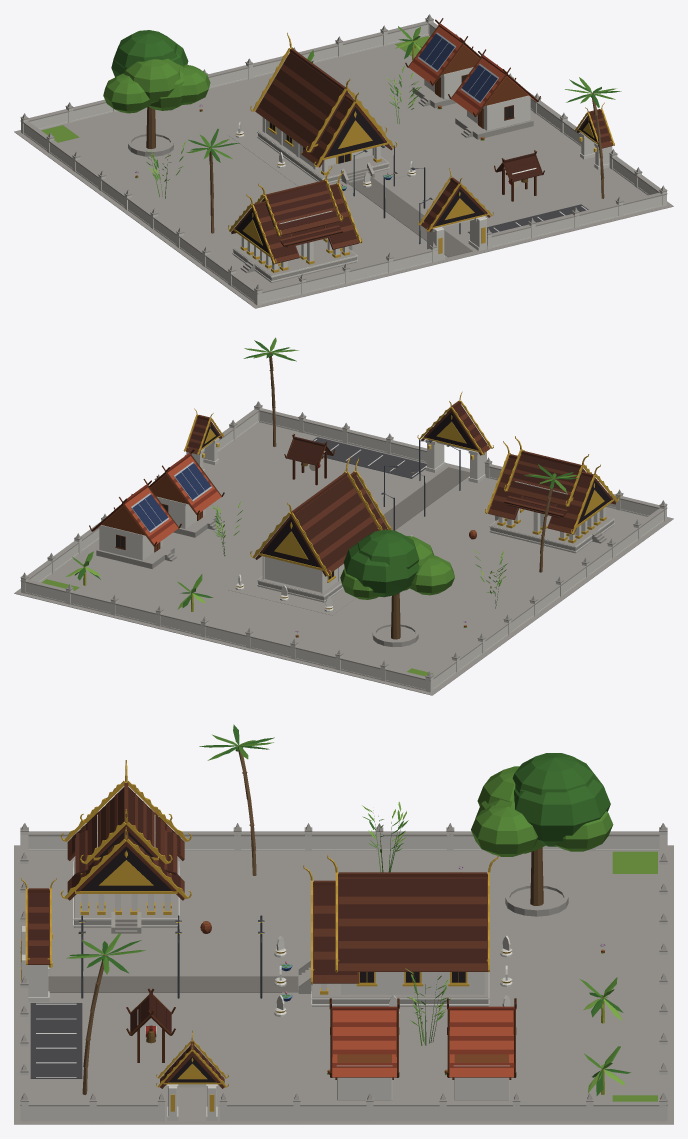
Rendered from temple_1.glb.
The picture shows the model from 3 angles, top to bottom: view 1: azimuth 30°, elevation 25°; view 2: azimuth 150°, elevation 25°; view 3: azimuth 270°, elevation 25°; orthographic projection. The views are drawn at different scales.
Visible parts, largest first — view 1: body; view 2: body; view 3: body.
Boxes of the visible parts, x1,y1,x2,y2 form: body: (14, 14, 673, 308); body: (14, 337, 673, 695); body: (14, 724, 673, 1124).
Bounding box in the file's own units: 47.9 × 12.13 × 47.9.
